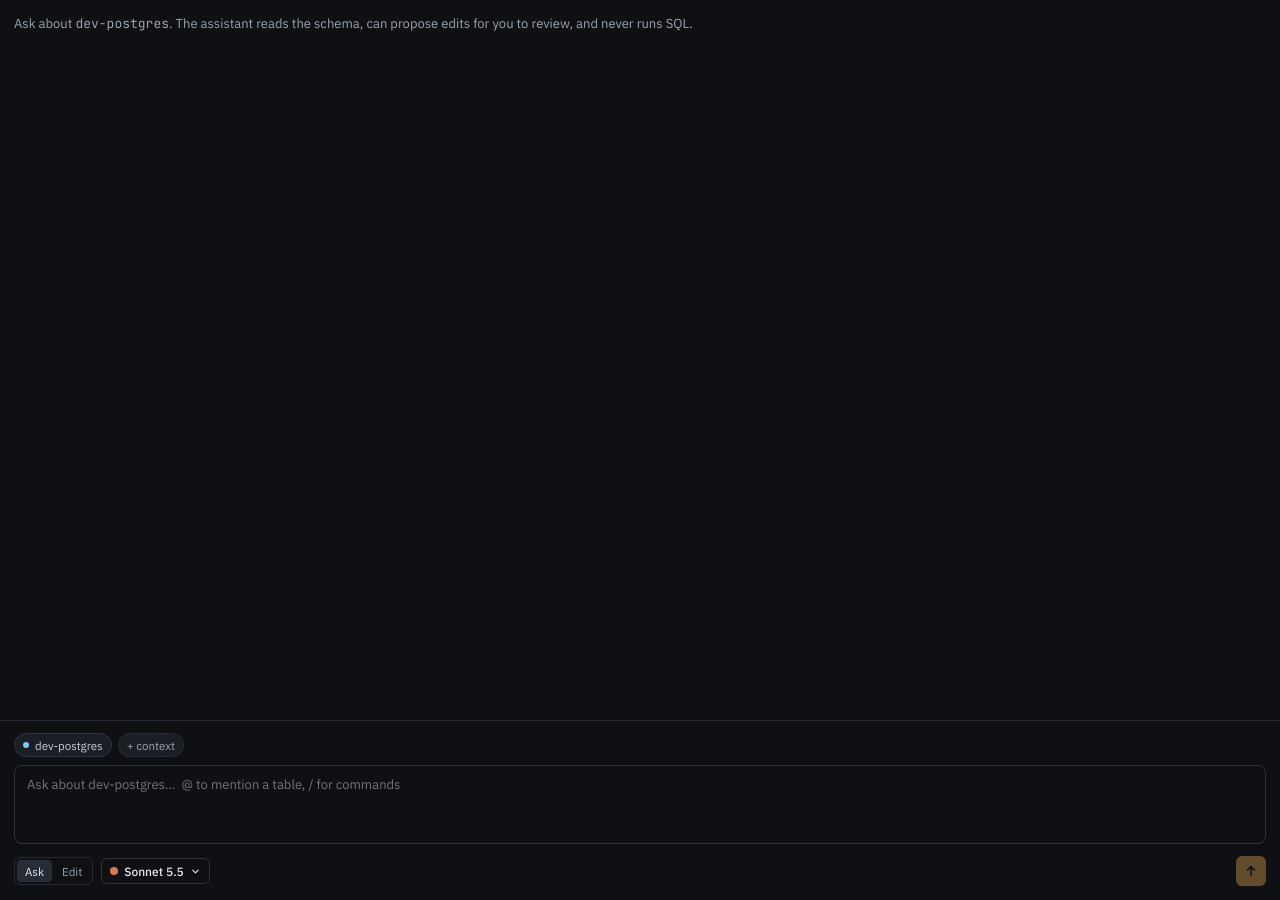
chat history (spec: ai-assistant › Chat history) › saves each message locally as the conversation goes
This screenshot has width=1280, height=900.
Type "remember me" into the text box named "Ask the assistant" at (640, 805), box [14, 766, 1266, 844]
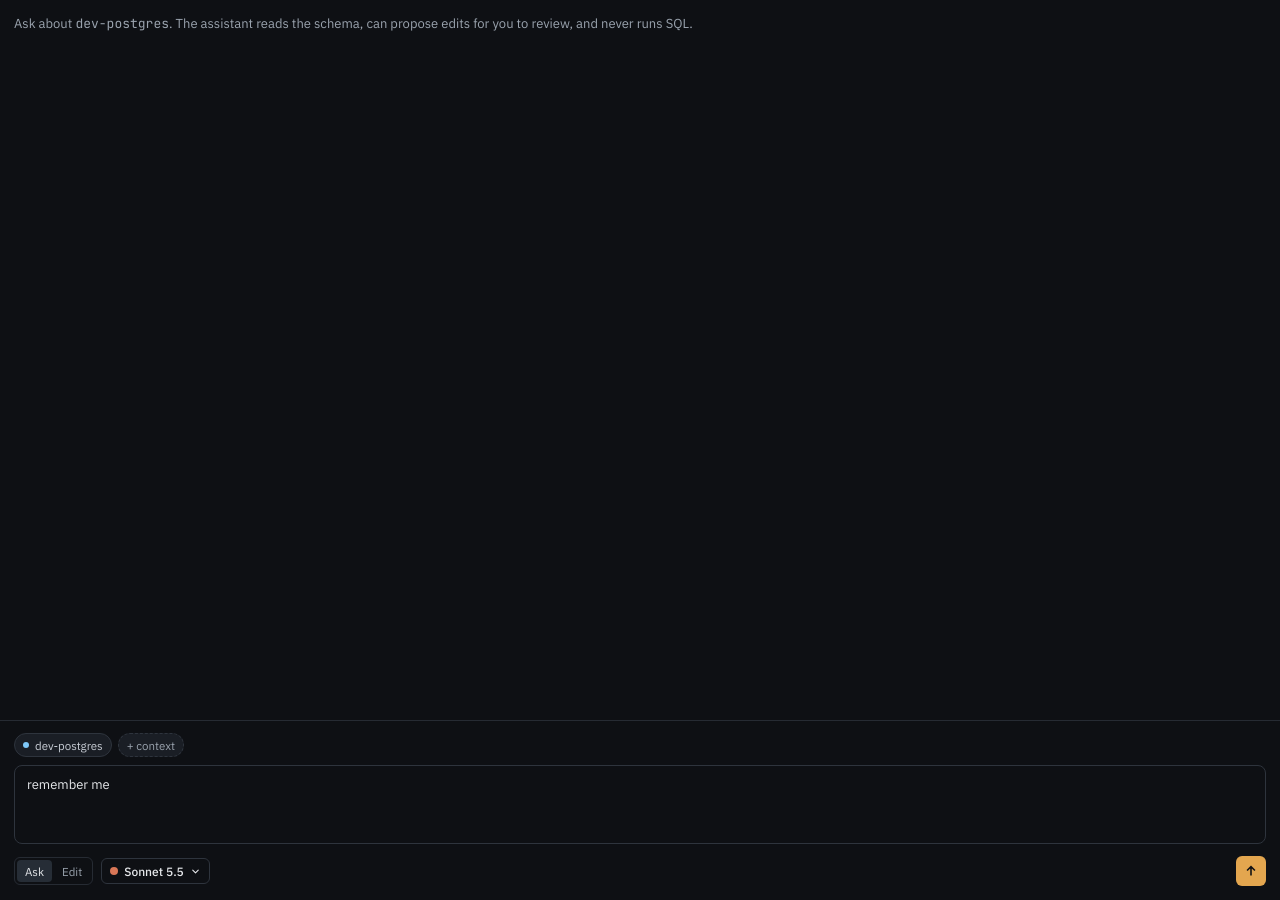
Press Enter in the text box named "Ask the assistant", box [14, 766, 1266, 844]
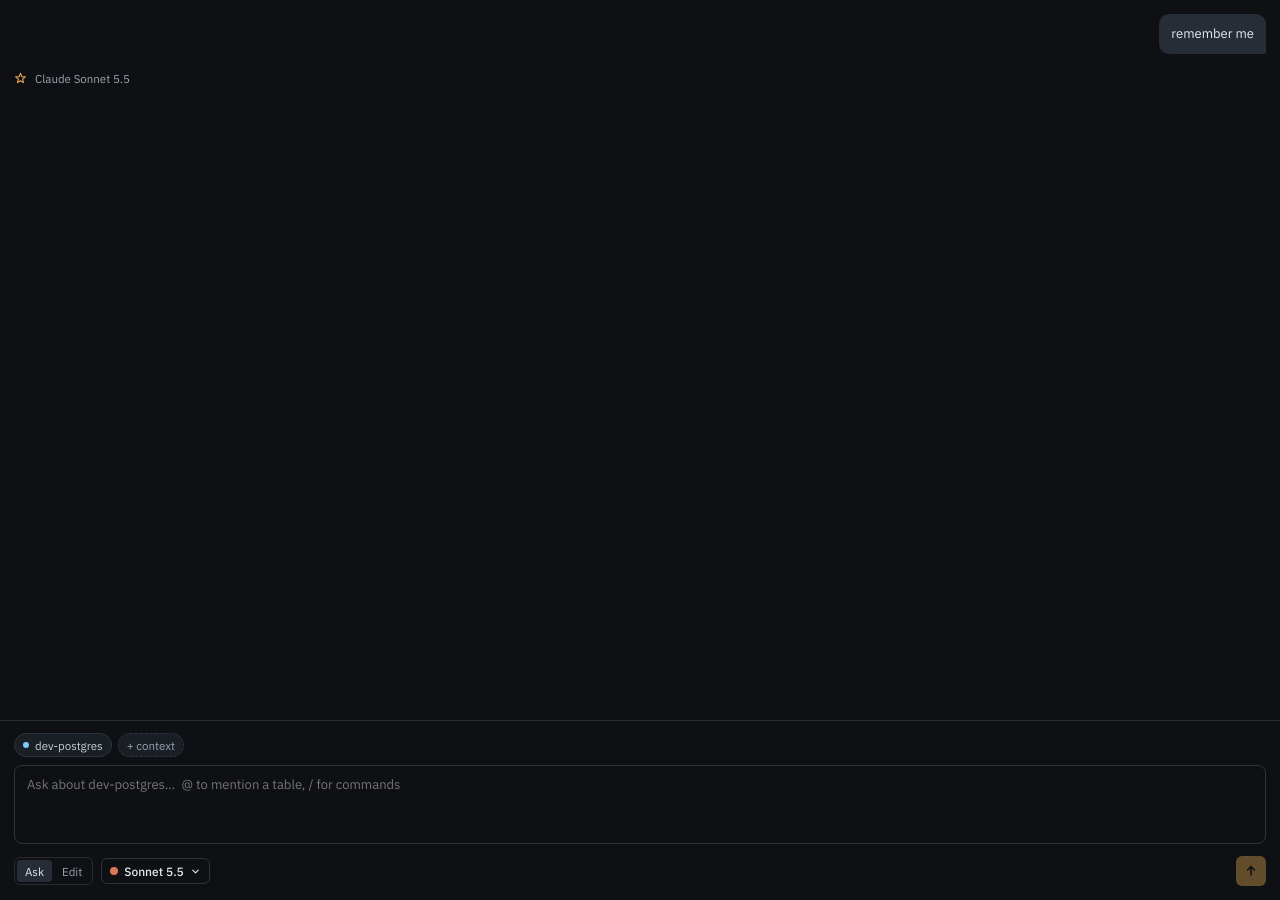
Expected: the text "remember me" is shown, [1159, 14, 1266, 54]
